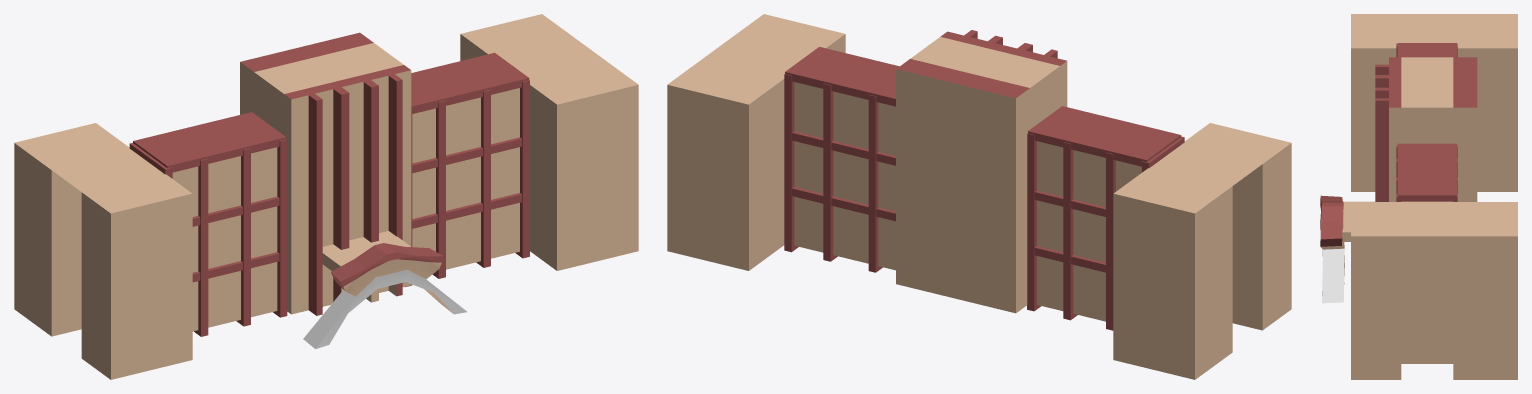
The model's file is mblock.fbx.
3 renders of one model, left to right at view 1: azimuth 30°, elevation 25°; view 2: azimuth 150°, elevation 25°; view 3: azimuth 270°, elevation 25°, orthographic. The views are drawn at different scales.
Visible parts, largest first — view 1: pCube3, pCube12, pCube8, pCube7, pCube9, pCube5, pCube11, pCube14, pCube13, pCube10; view 2: pCube3, pCube12, pCube11, pCube10, pCube5, pCube9, pCube7, pCube14, pCube13, pCube8; view 3: pCube3, pCube12, pCube5.
Part boxes in pixels (x1,y1,x2,y2): pCube3: (14,14,638,379); pCube12: (133,52,529,172); pCube8: (194,158,208,336); pCube7: (273,139,287,317); pCube9: (236,148,250,326); pCube5: (515,80,529,258); pCube11: (476,89,490,267); pCube14: (192,193,521,282); pCube13: (192,137,521,226); pCube10: (432,100,445,278); pCube3: (667,14,1291,379); pCube12: (785,47,1181,166); pCube11: (823,83,837,261); pCube10: (868,94,882,272); pCube5: (784,74,798,252); pCube9: (1063,142,1077,320); pCube7: (1027,133,1041,311); pCube14: (792,187,1105,272); pCube13: (792,131,1105,216); pCube8: (1106,152,1115,330); pCube3: (1320,14,1517,379); pCube12: (1397,43,1456,197); pCube5: (1396,194,1457,201).
Bounding box in the file's own units: 14.48 × 5.76 × 5.44.
